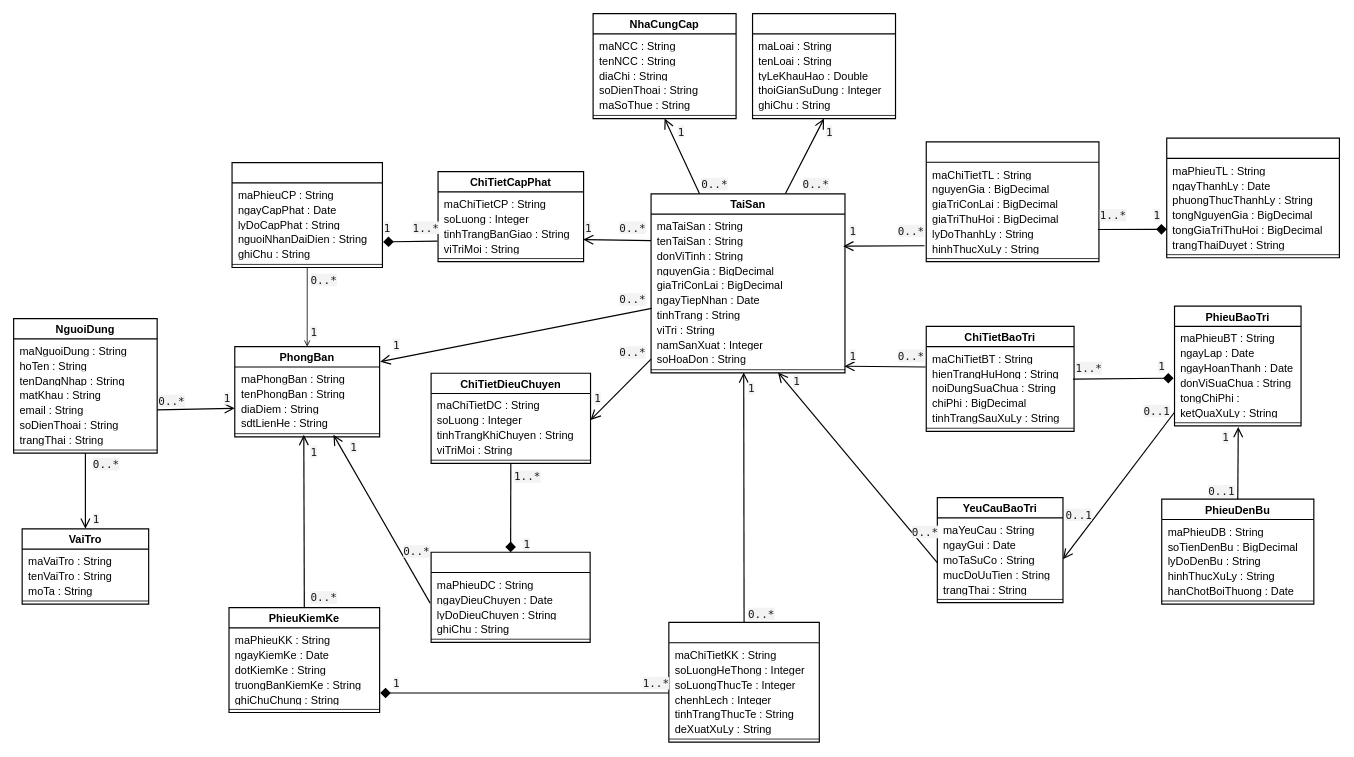
The diagram is 1354 pixels wide and 757 high, and some of its shapes have lost their labels. The shapes that lost their labels are listed below. From the top down, each one's box as (x1, y1, x2, y2) in pixels, then its label:
(752, 13, 896, 119): LoaiTaiSan
(231, 162, 383, 268): PhieuCapPhat
(925, 141, 1099, 262): ChiTietThanhLy
(1166, 137, 1340, 258): PhieuThanhLy
(430, 551, 590, 643): PhieuDieuChuyen
(668, 622, 820, 742): ChiTietKiemKe
